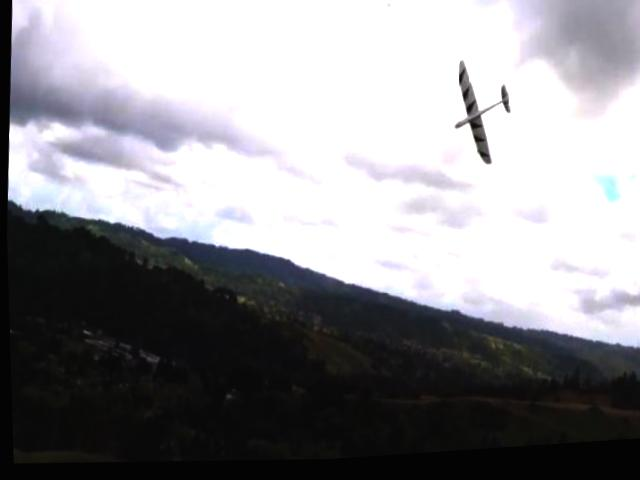iha: (439, 60, 519, 177)
